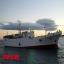fishing boat: (2, 18, 64, 51)
